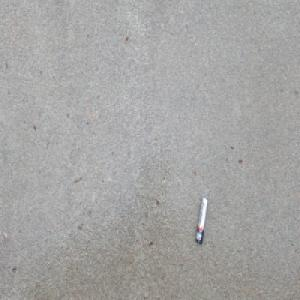Battery: (194, 196, 207, 246)
